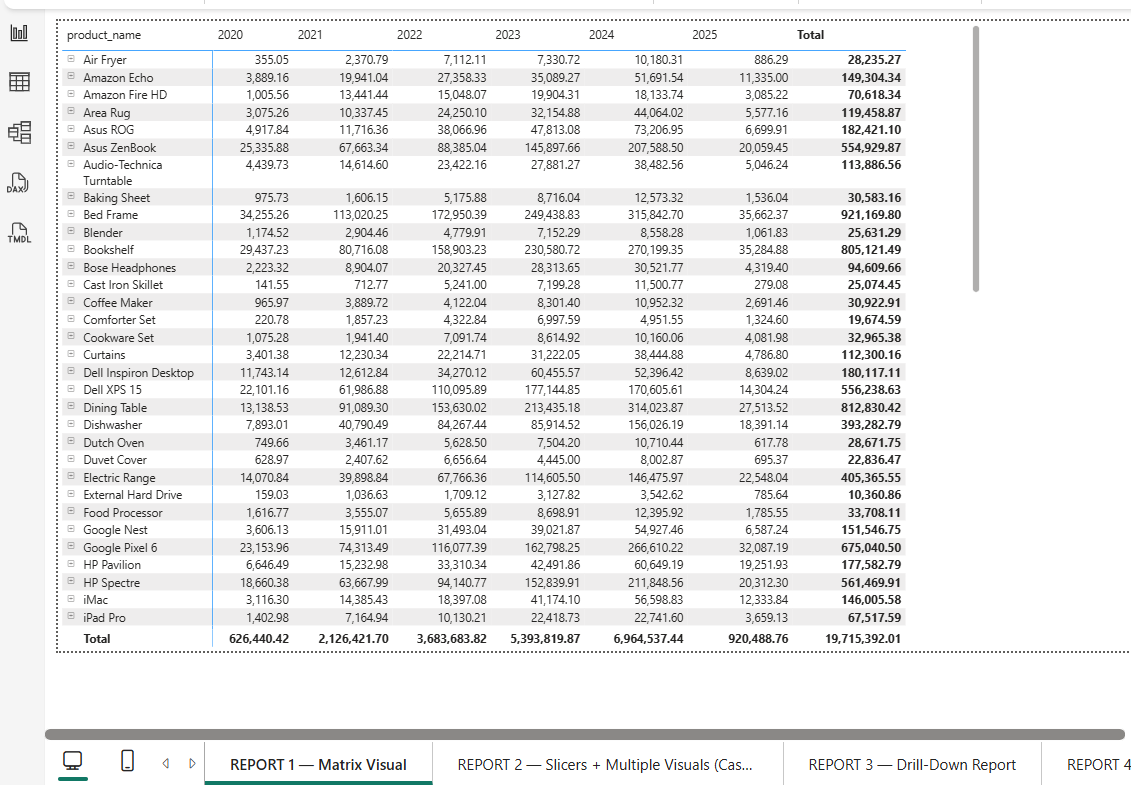

The page's visual inventory and layout, read from the dashboard file:
{"tool":"powerbi","page":{"name":"REPORT 1 — Matrix Visual","canvas":[1280,720],"ordinal":0},"visuals":[{"type":"pivotTable","fields":{"Rows":["DimProduct.product_name","DimProduct.product_category"],"Columns":["DimDate.CalendarYear"],"Values":["Sum(FactSales.price)"]},"box":[0,0,1058.6,720],"z":0}]}

Visuals, with their boxes on the page's 1280x720 design canvas (x1, y1, x2, y2). These are canvas units, not pixel positions in the 1131x785 screenshot, which may show the page scaled, cropped or inside an application window:
pivotTable - DimProduct.product_name x DimProduct.product_category: {"left": 0, "top": 0, "right": 1059, "bottom": 720}
